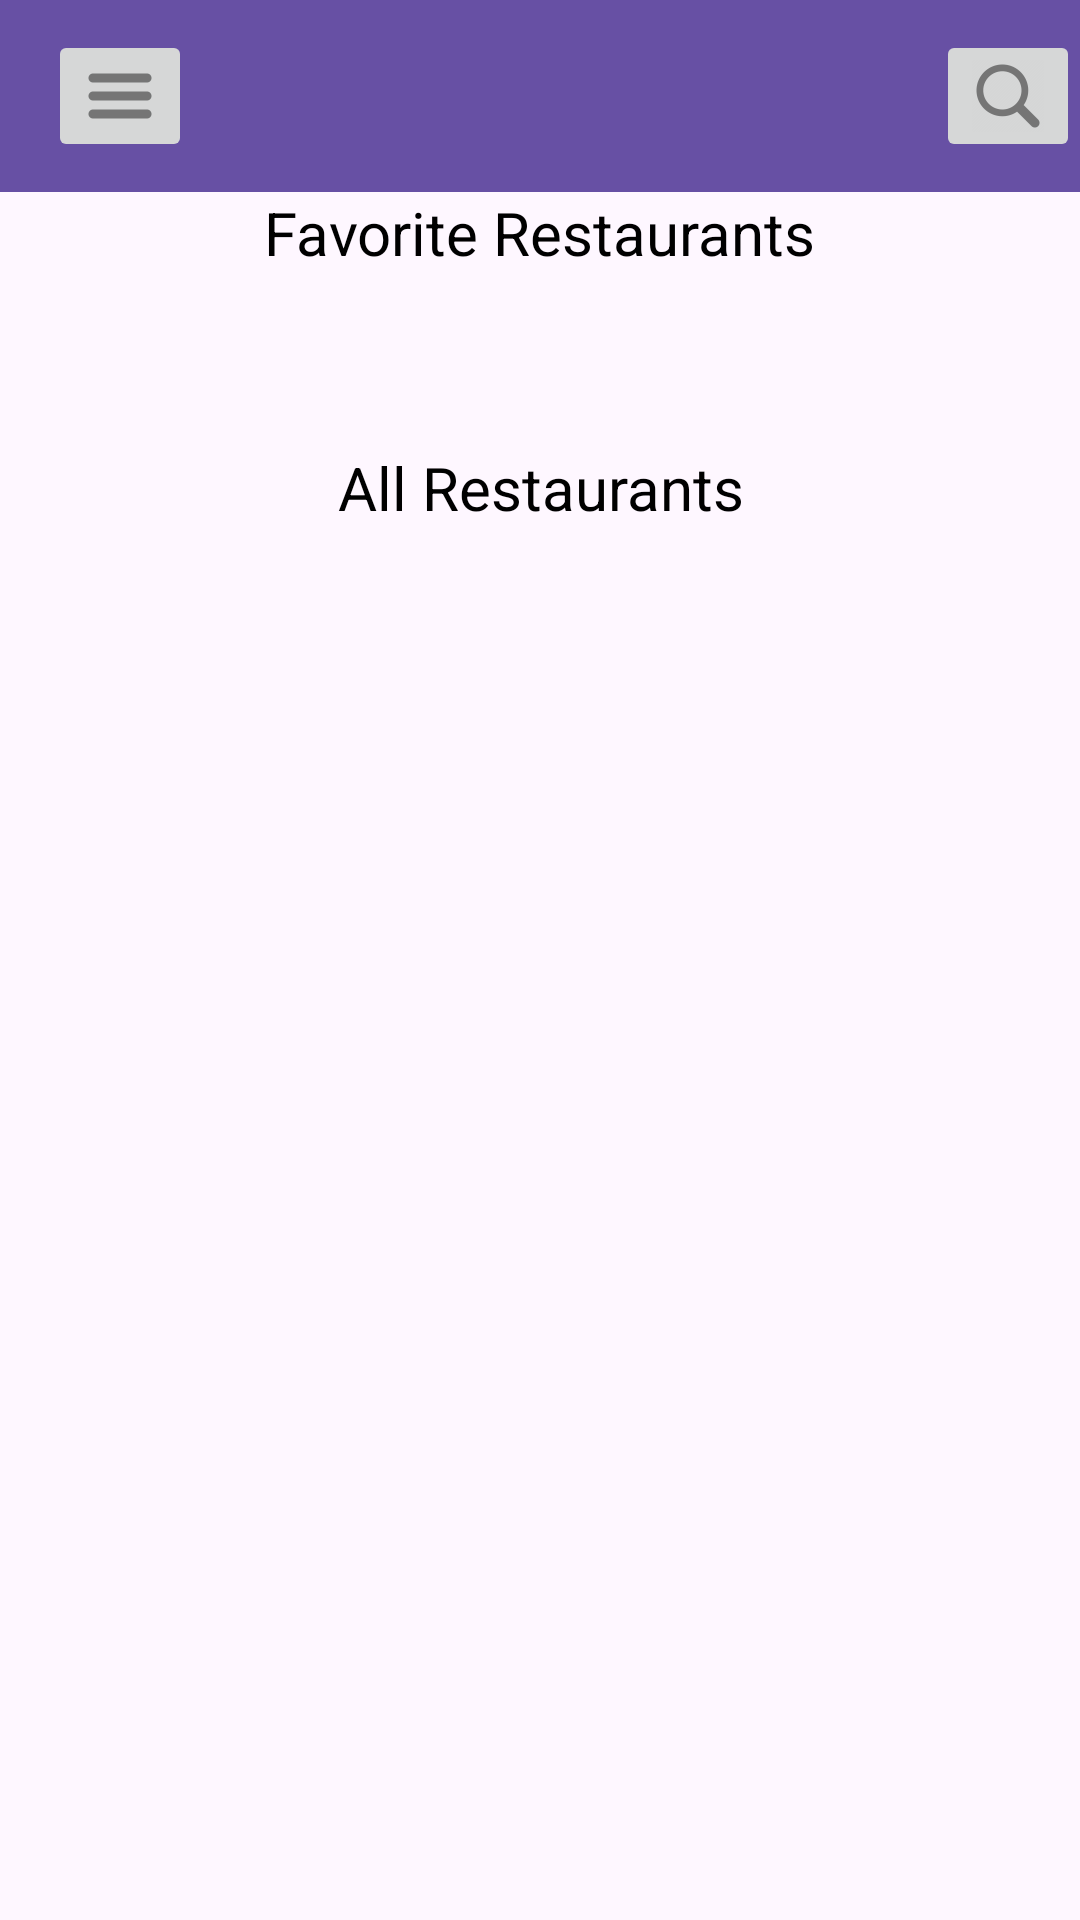

Icons on this 1080*1920 Android screen, each with the point to tap as point (x, y):
hamburger: point (120, 96)
search: point (1008, 96)
